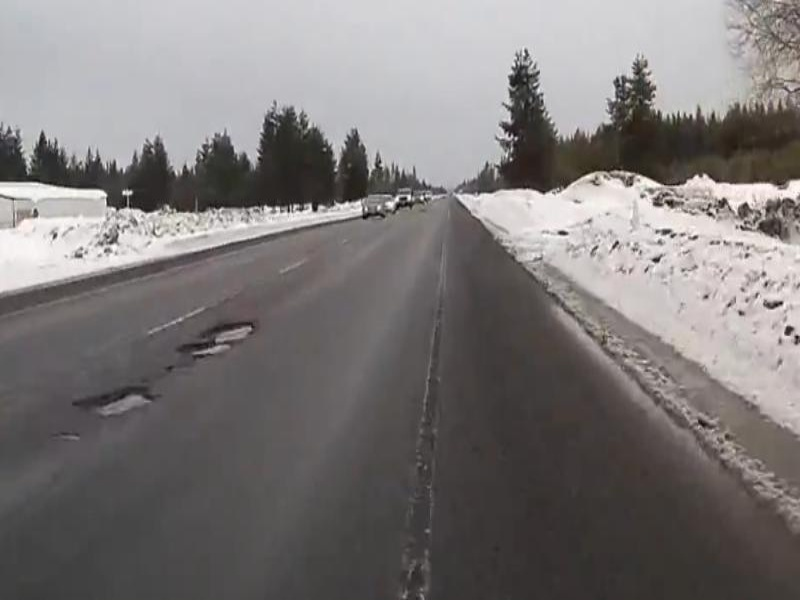pothole: (71, 387, 164, 422), (200, 319, 262, 343), (175, 343, 235, 357)
